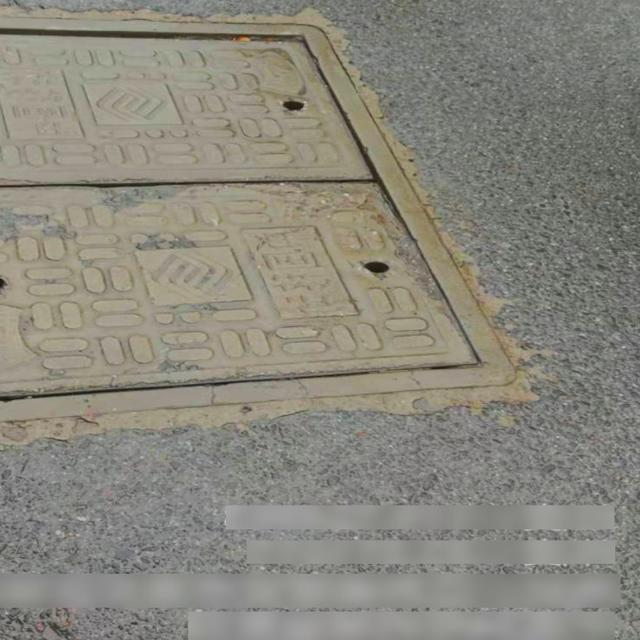good: (0, 15, 515, 430)
